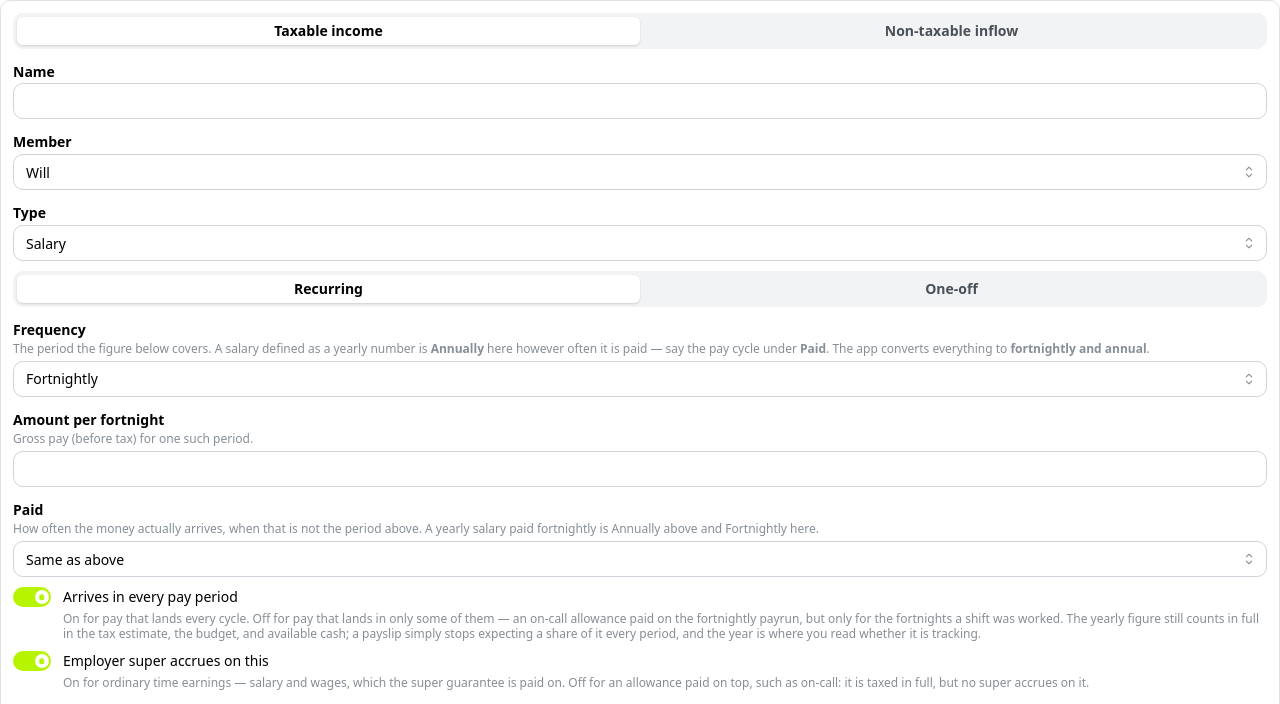
Test: InflowForm one-off mode › turns a wage into a salary, an amount paid once pricing no hours
Click the dropdown labelled "Type".
click(640, 243)  # box [13,225,1267,261]
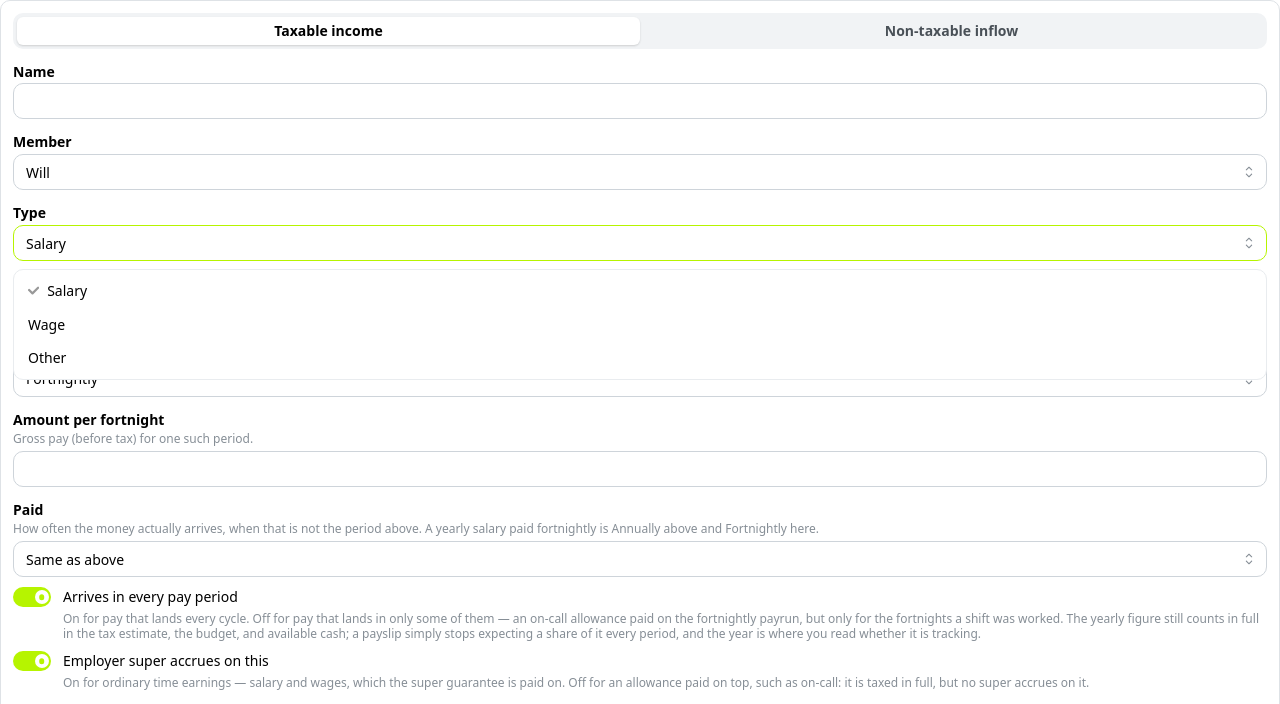
Click the option "Wage".
click(47, 324)  # box [28,315,65,334]
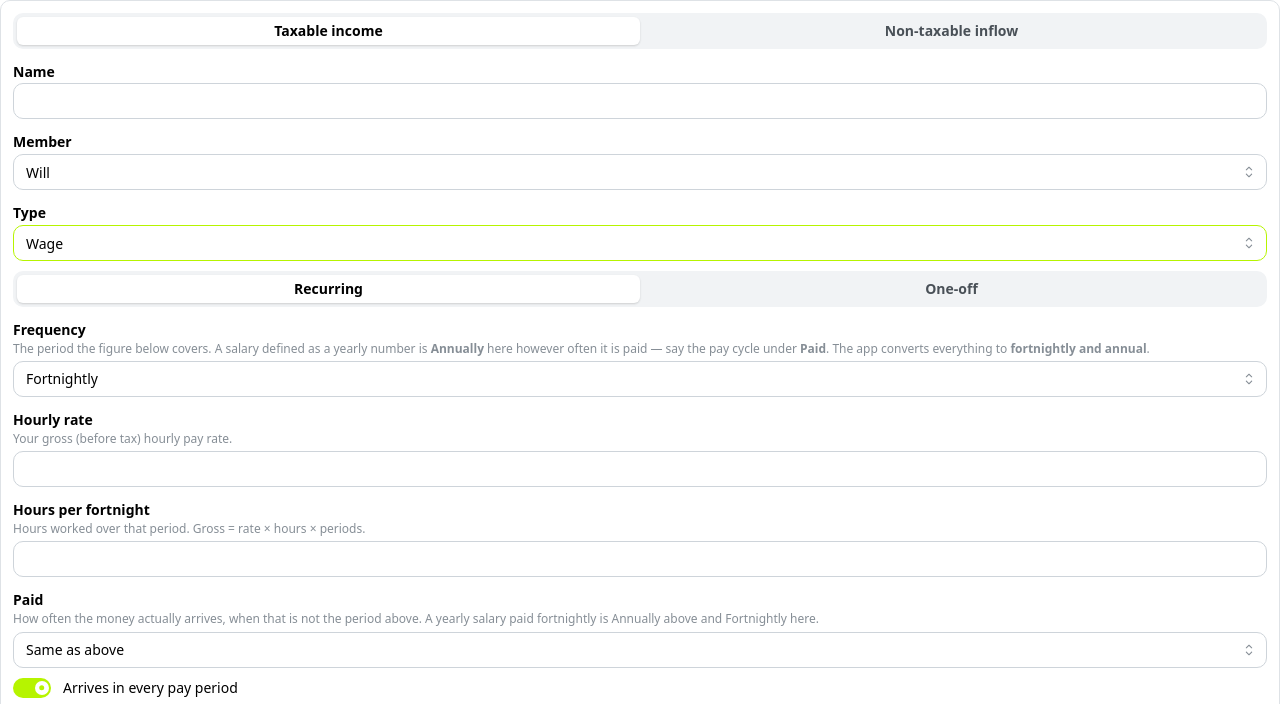
Check: the field labelled "Hourly rate" is shown, box [13,451,1267,487]
Click the text "One-off".
click(952, 289)  # box [925,279,978,298]
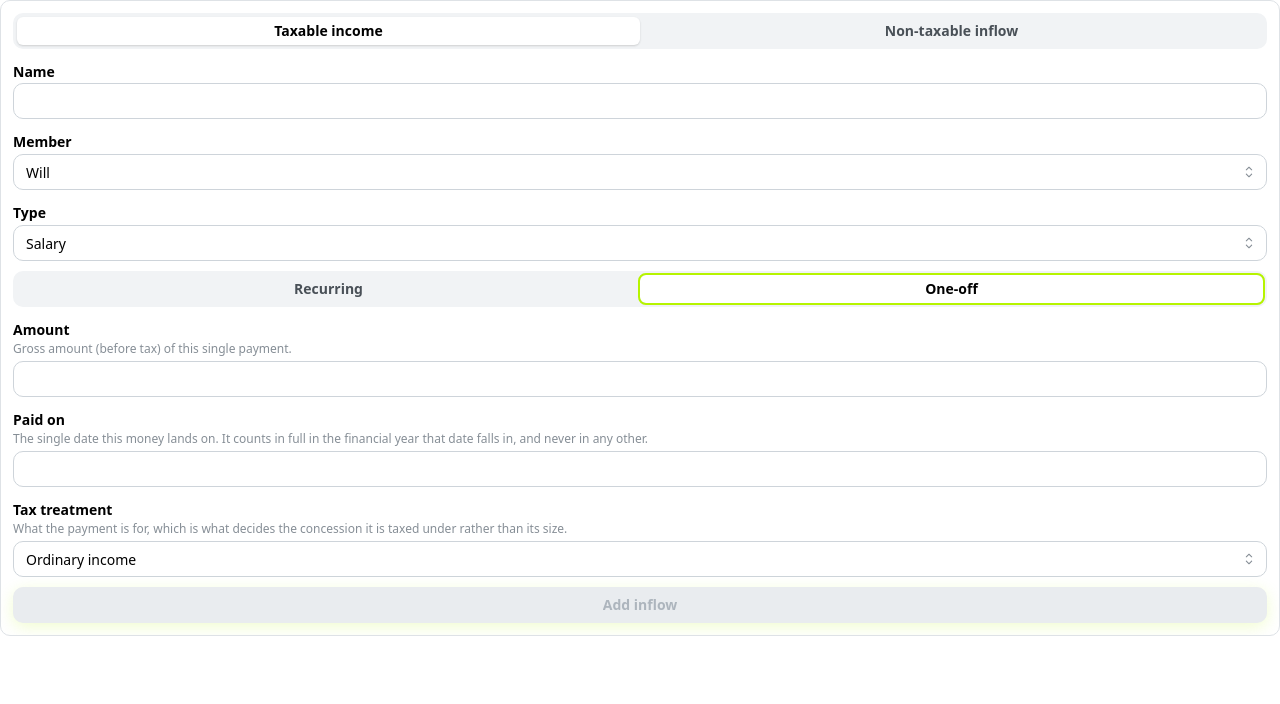
Check: the dropdown labelled "Type" holds "Salary", box [13,225,1267,261]
Check: the label labelled "Hourly rate" is gone
